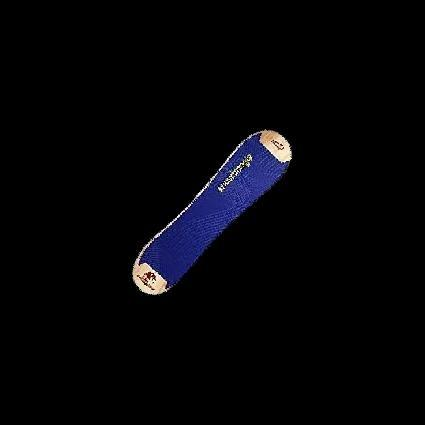Snowboard: (131, 128, 292, 296)
